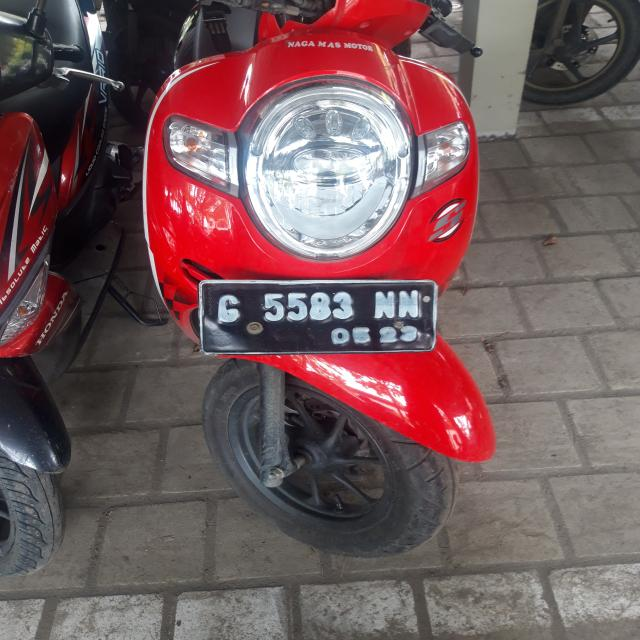plate: (198, 280, 438, 352)
